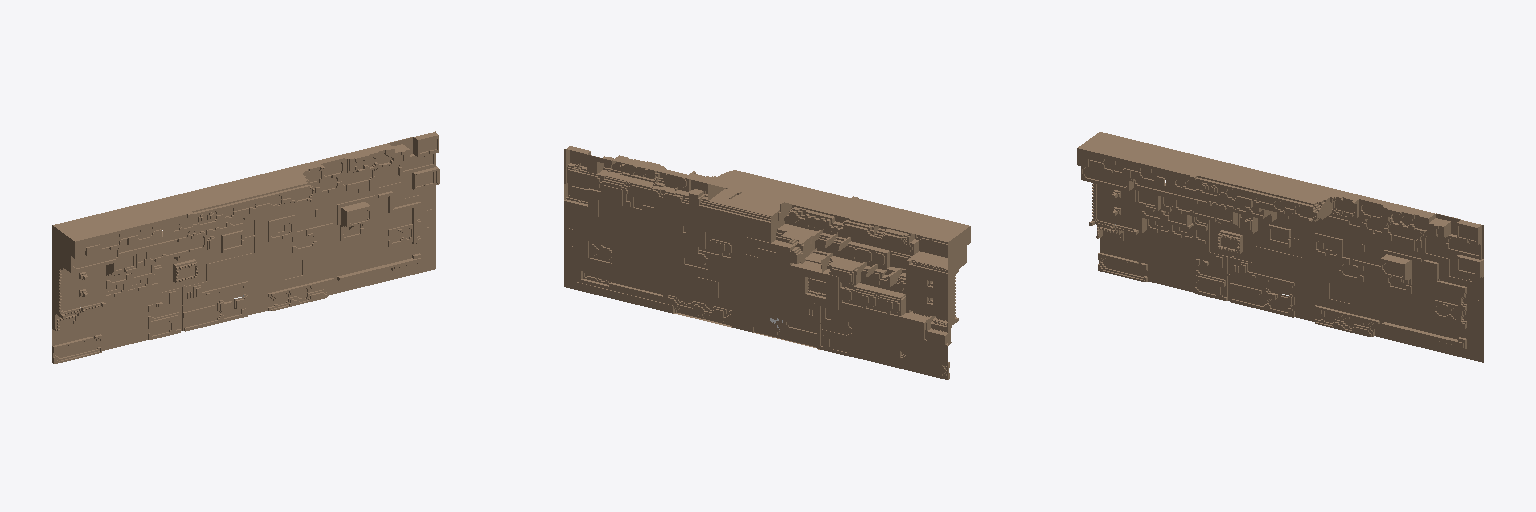
Rendered from lozOverworldBroad_v4.obj.
3 views of the same model, side by side, from view 1: azimuth 30°, elevation 25°; view 2: azimuth 150°, elevation 25°; view 3: azimuth 330°, elevation 25° (orthographic).
Visible parts, largest first — view 1: Mesh1 Model, Mesh5 Model; view 2: Mesh1 Model; view 3: Mesh1 Model, Mesh5 Model.
Boxes of the visible parts, x1=… form: Mesh1 Model: x1=52, y1=131, x2=439, y2=363; Mesh5 Model: x1=337, y1=195, x2=375, y2=241; Mesh1 Model: x1=564, y1=146, x2=970, y2=379; Mesh1 Model: x1=1077, y1=132, x2=1483, y2=362; Mesh5 Model: x1=1381, y1=250, x2=1421, y2=294.
Size of the model in its own units: 4096 by 1408 by 464.